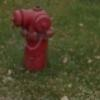a fire hydrant: (12, 4, 57, 72)
